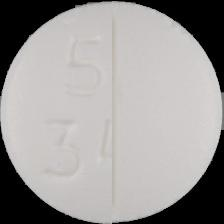54868-0908: (0, 0, 224, 224)
